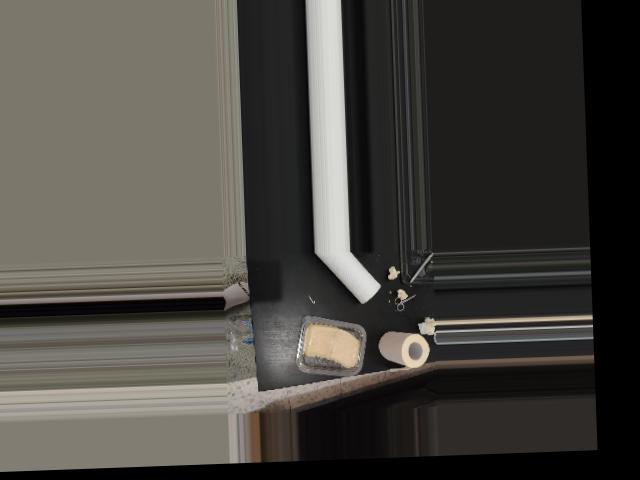cheese: (293, 316, 367, 373)
